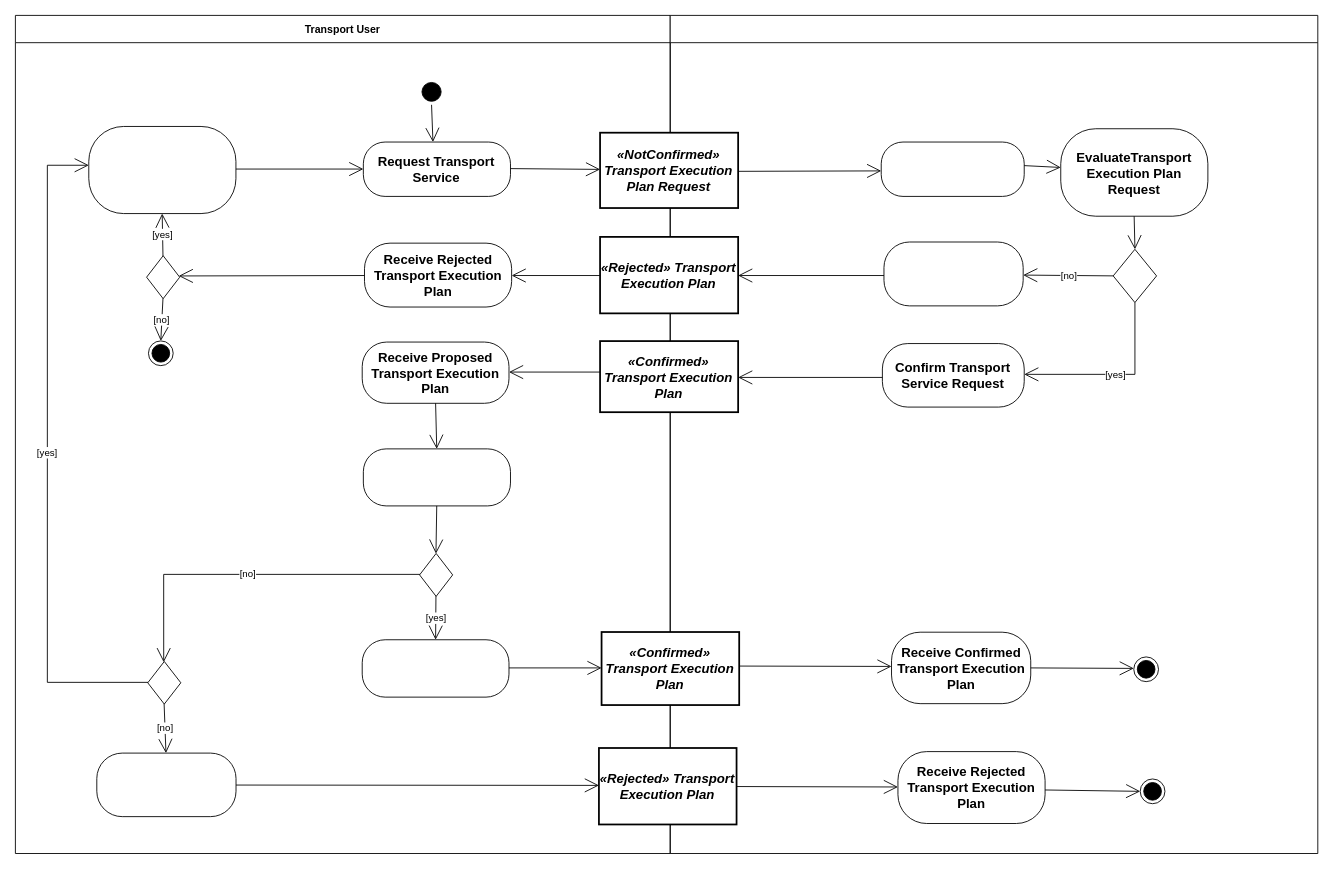
The diagram is 1333 pixels wide and 869 high, and some of its shapes have lost their labels. The box of each missing label's shape, as (x1, y1, x2, y2) in pixels:
Confirm Transport Execution Plan: (361, 639, 509, 697)
Create/Update Transport Execution Plan Request: (88, 126, 236, 214)
EvaluateTransport Execution Plan: (362, 448, 510, 506)
Receive Transport Service Request: (880, 141, 1024, 196)
Reject Transport Execution Plan: (96, 752, 236, 817)
Reject Transport Service Request: (883, 241, 1023, 306)
Transport Service Provider: (669, 15, 1318, 854)
